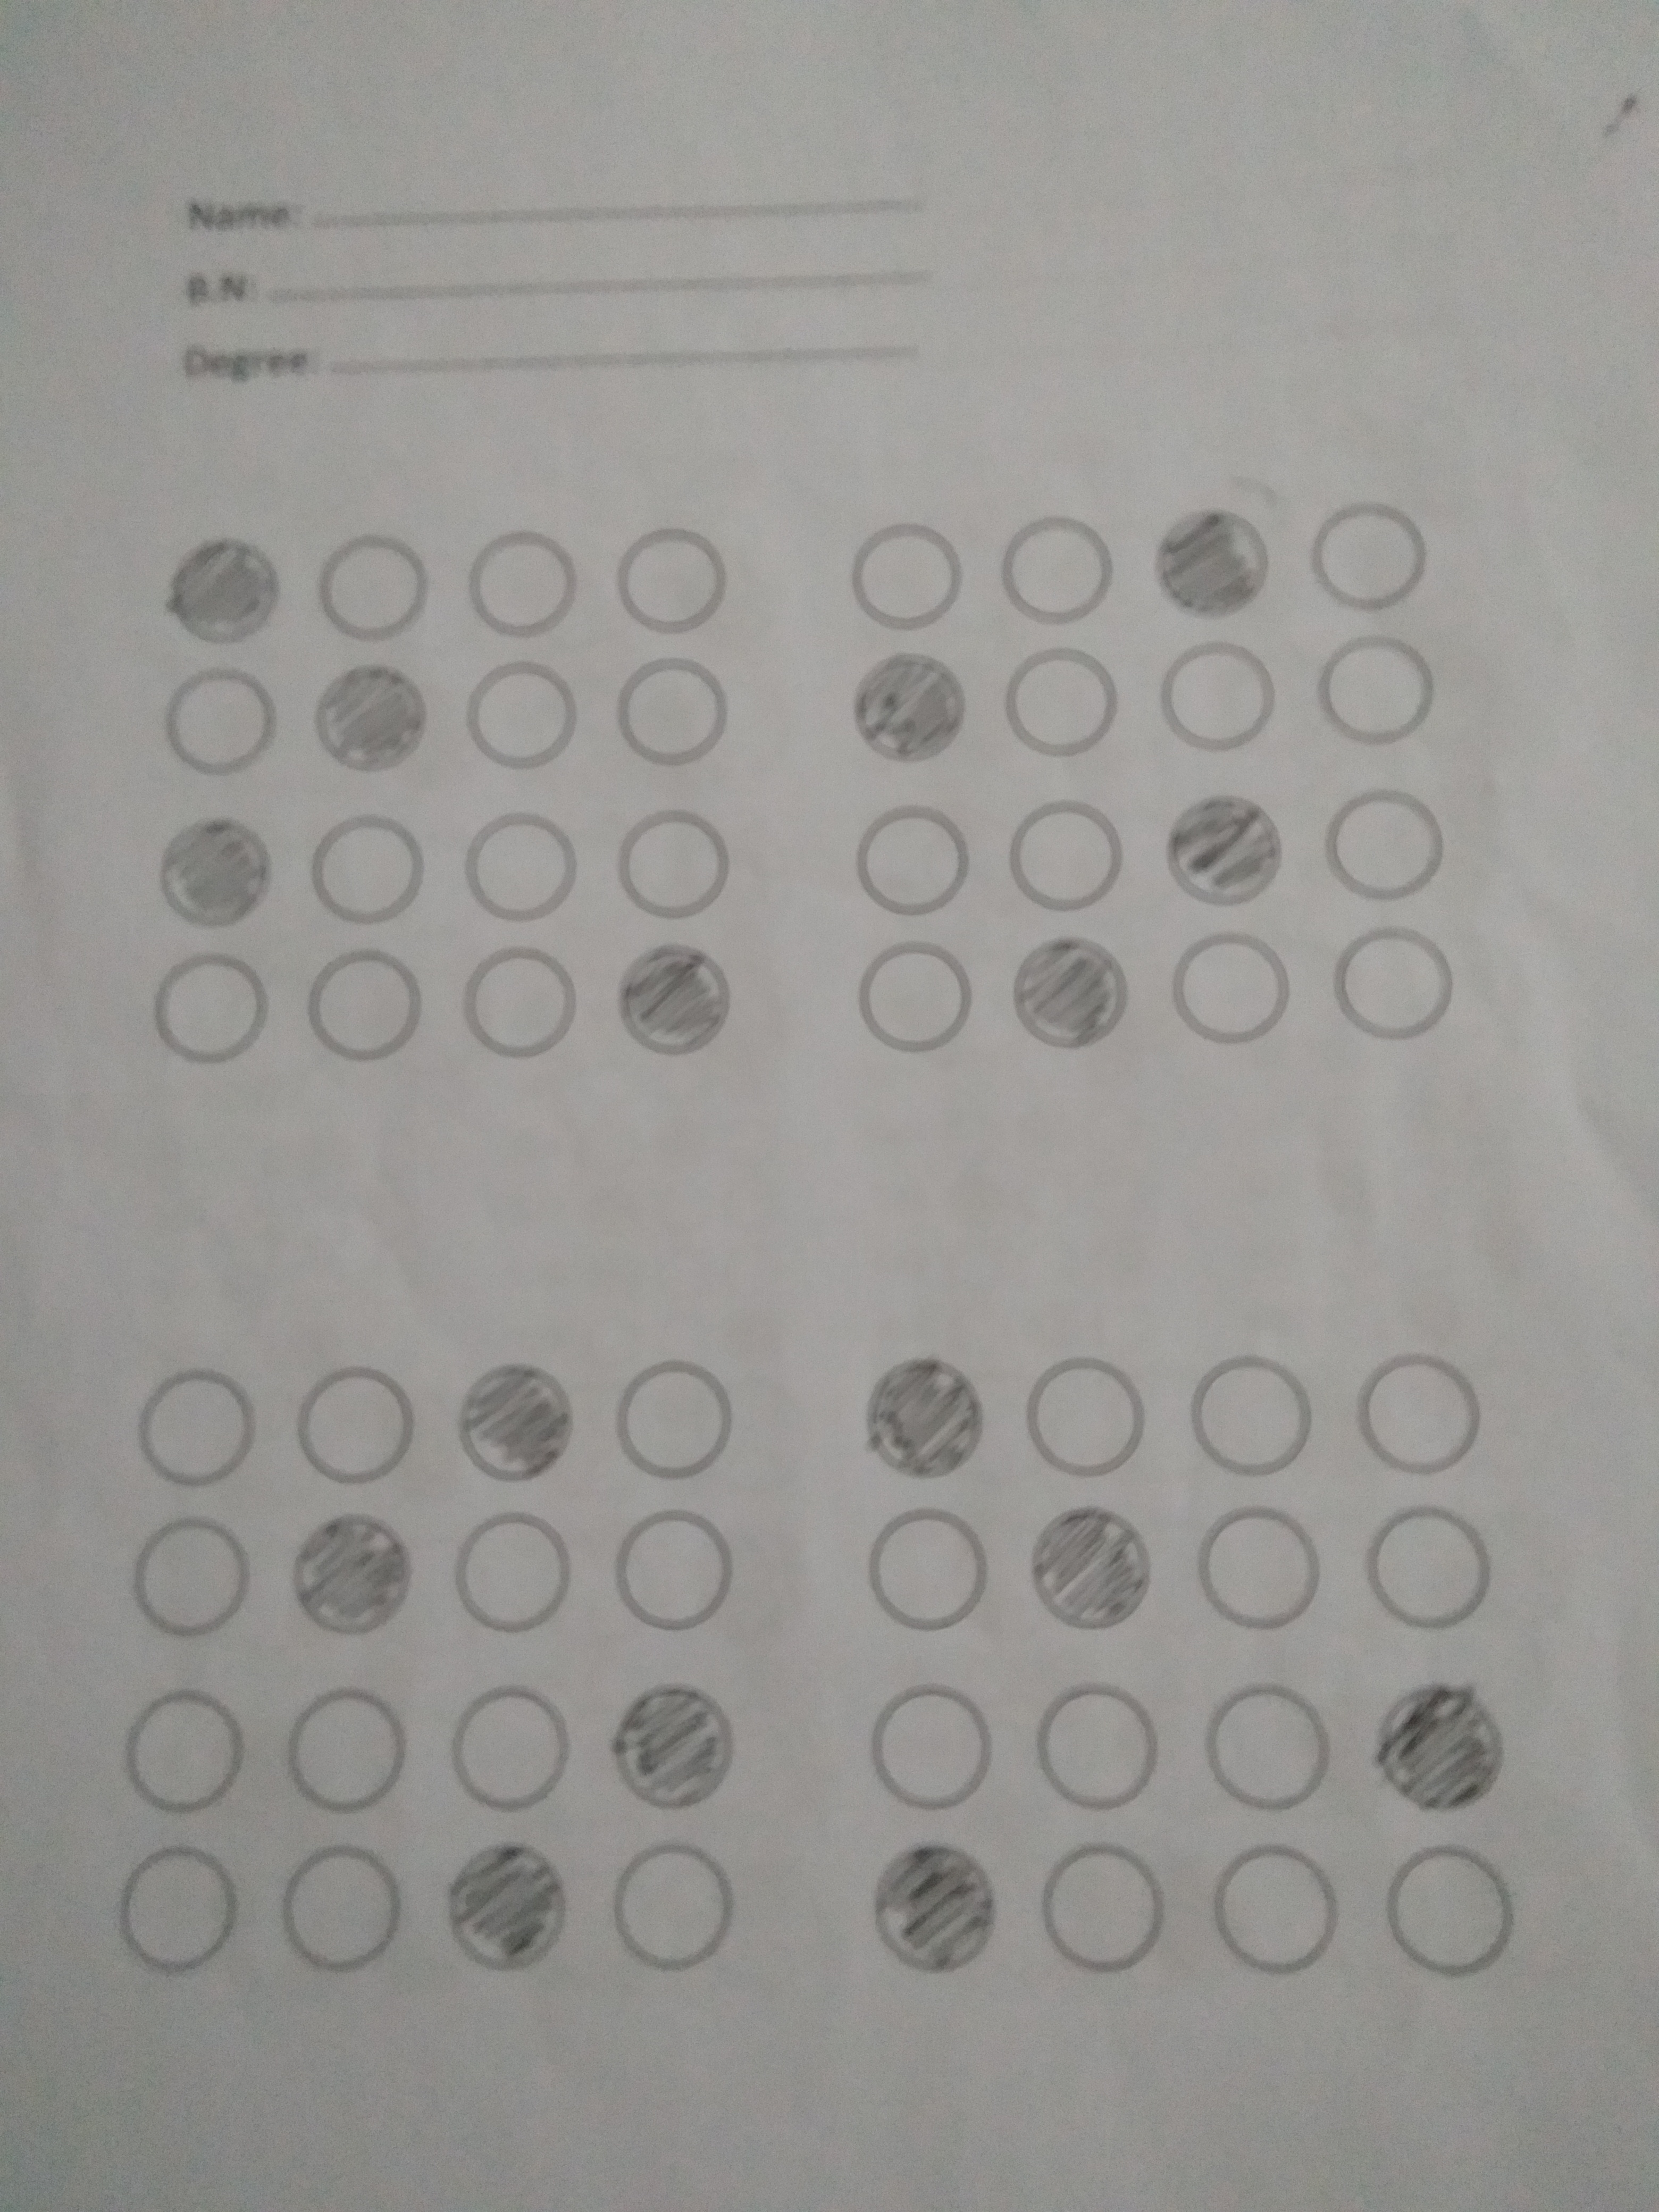not-c: (422, 1658, 592, 1815), (1370, 1839, 1534, 1991), (106, 1667, 260, 1818), (1197, 1667, 1337, 1831), (99, 1838, 251, 1982), (1018, 1336, 1164, 1484), (1345, 1338, 1490, 1486), (1359, 1494, 1507, 1639), (605, 1836, 751, 1979), (1204, 1843, 1352, 1982), (1173, 1353, 1319, 1493), (850, 1684, 1006, 1815), (281, 1672, 420, 1817), (443, 939, 591, 1075), (115, 1515, 268, 1646), (992, 784, 1133, 925), (859, 1494, 997, 1639), (1162, 920, 1298, 1064), (1316, 775, 1452, 918), (1032, 1670, 1162, 1818), (286, 1357, 430, 1489), (606, 1507, 746, 1642), (277, 1839, 410, 1982), (1192, 1501, 1330, 1637), (605, 1353, 739, 1493), (835, 939, 976, 1071), (1035, 1839, 1168, 1980), (1319, 918, 1464, 1047), (444, 1512, 584, 1642), (850, 798, 990, 928), (127, 1360, 267, 1489), (988, 495, 1121, 629), (143, 660, 293, 777), (613, 792, 739, 930), (1303, 496, 1445, 618), (601, 512, 732, 641), (838, 514, 967, 644), (141, 948, 277, 1071), (608, 648, 739, 775), (1314, 629, 1441, 759), (303, 810, 437, 932), (465, 512, 584, 644), (298, 949, 427, 1066), (457, 808, 589, 920), (1159, 641, 1281, 759), (464, 655, 589, 770), (999, 644, 1122, 759), (312, 526, 427, 648)
taken-c: (1373, 1681, 1513, 1813), (439, 1834, 570, 1975), (1026, 1500, 1154, 1635), (612, 1679, 739, 1813), (873, 1839, 999, 1975), (288, 1510, 416, 1637), (1162, 791, 1288, 911), (861, 1355, 986, 1475), (613, 939, 735, 1061), (455, 1360, 575, 1484), (1009, 935, 1134, 1052), (850, 650, 974, 766), (1155, 505, 1272, 622), (169, 536, 284, 650), (159, 813, 272, 928), (314, 664, 429, 773)
